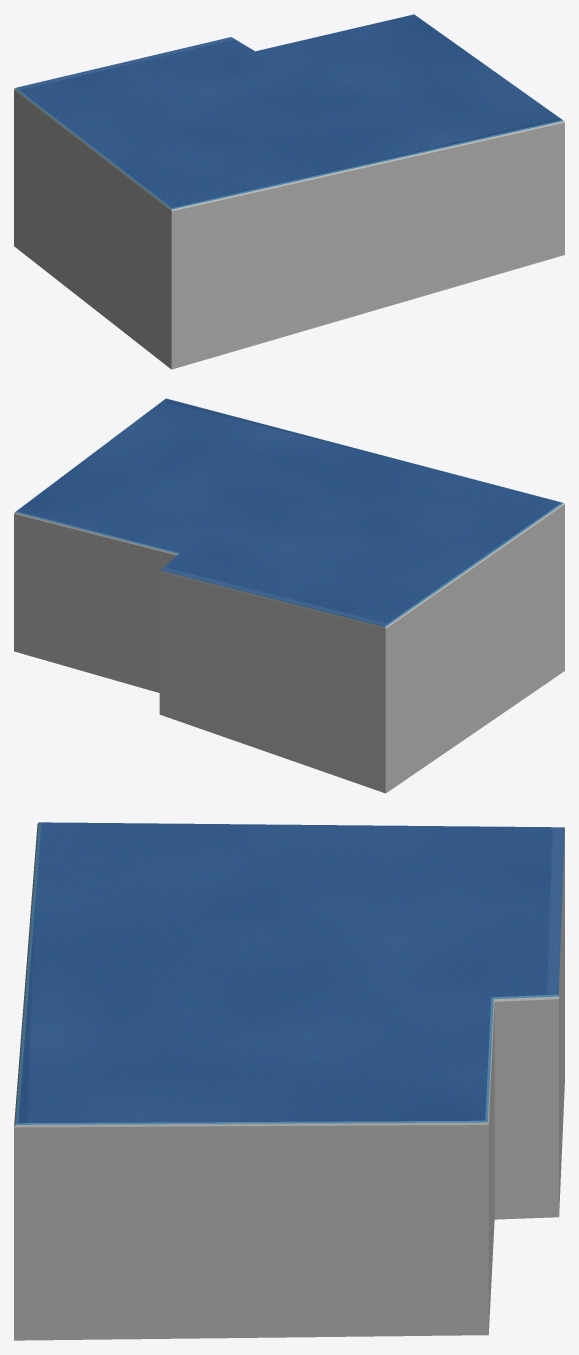
Rendered from fragments.glb.
The picture shows the model from 3 angles, top to bottom: view 1: azimuth 30°, elevation 25°; view 2: azimuth 150°, elevation 25°; view 3: azimuth 270°, elevation 25°; orthographic projection. The views are drawn at different scales.
Parts seen in each view (by area): view 1: SM_env-store_Fragment_007, SM_env-store_Fragment_048, SM_env-store_Fragment_033, SM_env-store_Fragment_022, SM_env-store_Fragment_030, SM_env-store_Fragment_016, SM_env-store_Fragment_029, SM_env-store_Fragment_002, SM_env-store_Fragment_054, SM_env-store_Fragment_024, SM_env-store_Fragment_039, SM_env-store_Fragment_061 (+23 smaller); view 2: SM_env-store_Fragment_035, SM_env-store_Fragment_001, SM_env-store_Fragment_022, SM_env-store_Fragment_008, SM_env-store_Fragment_031, SM_env-store_Fragment_050, SM_env-store_Fragment_047, SM_env-store_Fragment_052, SM_env-store_Fragment_025, SM_env-store_Fragment_007, SM_env-store_Fragment_010, SM_env-store_Fragment_018 (+23 smaller); view 3: SM_env-store_Fragment_000, SM_env-store_Fragment_010, SM_env-store_Fragment_017, SM_env-store_Fragment_029, SM_env-store_Fragment_055, SM_env-store_Fragment_027, SM_env-store_Fragment_035, SM_env-store_Fragment_022, SM_env-store_Fragment_005, SM_env-store_Fragment_019, SM_env-store_Fragment_051, SM_env-store_Fragment_023 (+18 smaller).
Part boxes in pixels (x1,y1,x2,y2): SM_env-store_Fragment_007: [134, 185, 222, 327]; SM_env-store_Fragment_048: [396, 114, 509, 199]; SM_env-store_Fragment_033: [350, 185, 424, 313]; SM_env-store_Fragment_022: [81, 132, 192, 210]; SM_env-store_Fragment_030: [286, 131, 403, 212]; SM_env-store_Fragment_016: [205, 157, 321, 235]; SM_env-store_Fragment_029: [450, 87, 564, 191]; SM_env-store_Fragment_002: [240, 272, 361, 346]; SM_env-store_Fragment_054: [281, 203, 368, 289]; SM_env-store_Fragment_024: [130, 276, 242, 369]; SM_env-store_Fragment_039: [189, 182, 284, 314]; SM_env-store_Fragment_061: [417, 194, 492, 294]; SM_env-store_Fragment_035: [14, 506, 115, 645]; SM_env-store_Fragment_001: [323, 635, 440, 752]; SM_env-store_Fragment_022: [409, 508, 535, 607]; SM_env-store_Fragment_008: [224, 561, 316, 651]; SM_env-store_Fragment_031: [159, 637, 241, 734]; SM_env-store_Fragment_050: [159, 549, 244, 647]; SM_env-store_Fragment_047: [293, 562, 375, 674]; SM_env-store_Fragment_052: [356, 573, 462, 645]; SM_env-store_Fragment_025: [293, 704, 401, 793]; SM_env-store_Fragment_007: [504, 492, 564, 632]; SM_env-store_Fragment_010: [23, 473, 153, 535]; SM_env-store_Fragment_018: [434, 599, 499, 727]; SM_env-store_Fragment_000: [104, 1161, 301, 1339]; SM_env-store_Fragment_010: [302, 1039, 485, 1223]; SM_env-store_Fragment_017: [143, 1045, 326, 1205]; SM_env-store_Fragment_029: [14, 1063, 173, 1220]; SM_env-store_Fragment_055: [228, 1225, 384, 1337]; SM_env-store_Fragment_027: [14, 1180, 109, 1340]; SM_env-store_Fragment_035: [378, 1046, 492, 1257]; SM_env-store_Fragment_022: [103, 823, 340, 880]; SM_env-store_Fragment_005: [200, 872, 376, 953]; SM_env-store_Fragment_019: [385, 1238, 491, 1336]; SM_env-store_Fragment_051: [317, 962, 490, 1041]; SM_env-store_Fragment_023: [209, 992, 424, 1063].
Bounding box in the file's own units: 2.2 × 0.8721 × 1.69.
4 materials, 1 textured.
